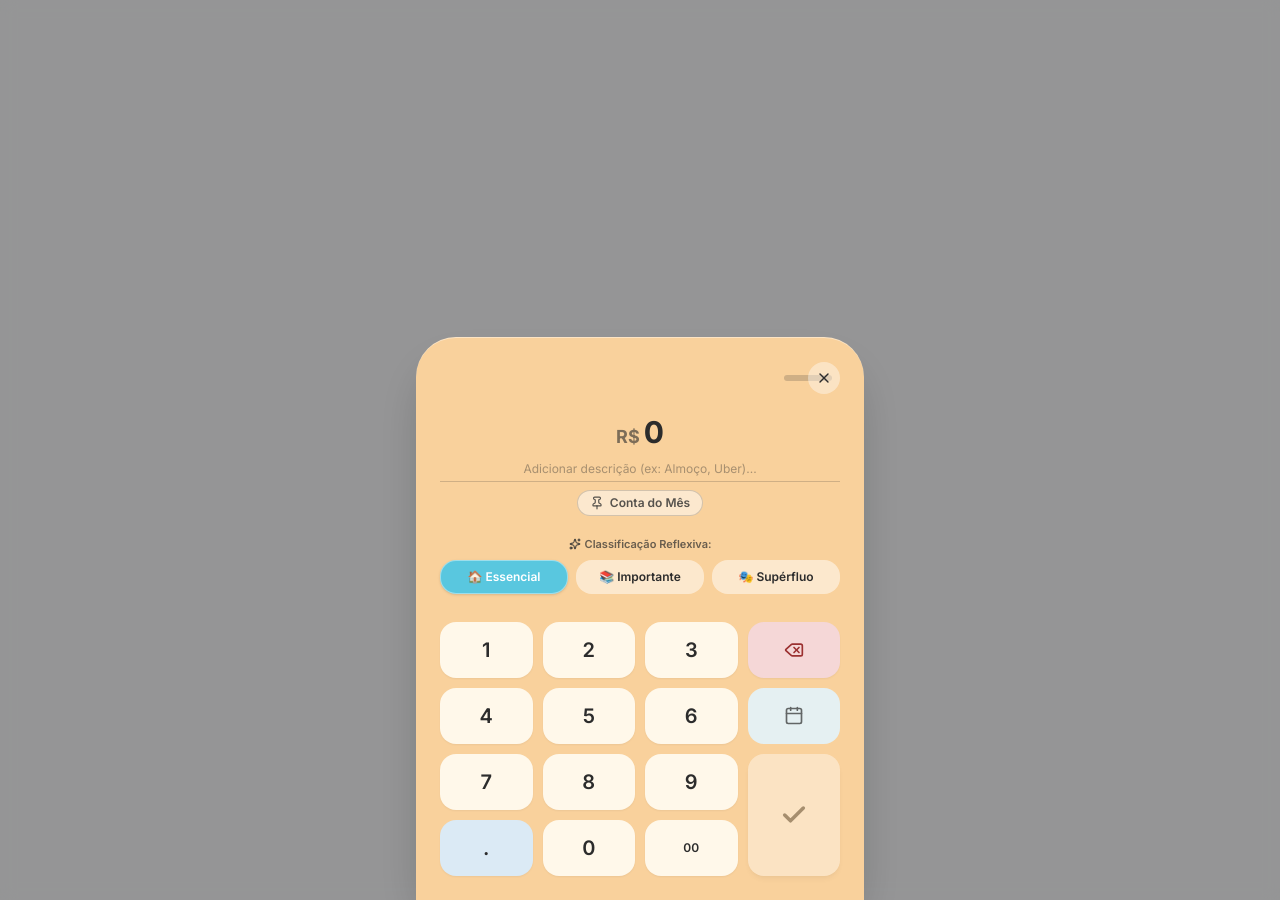
Test: ExpenseForm component › should update display value when keypad buttons are pressed
Step 1. Click the button "1" → [486, 650], box [440,622,532,678]
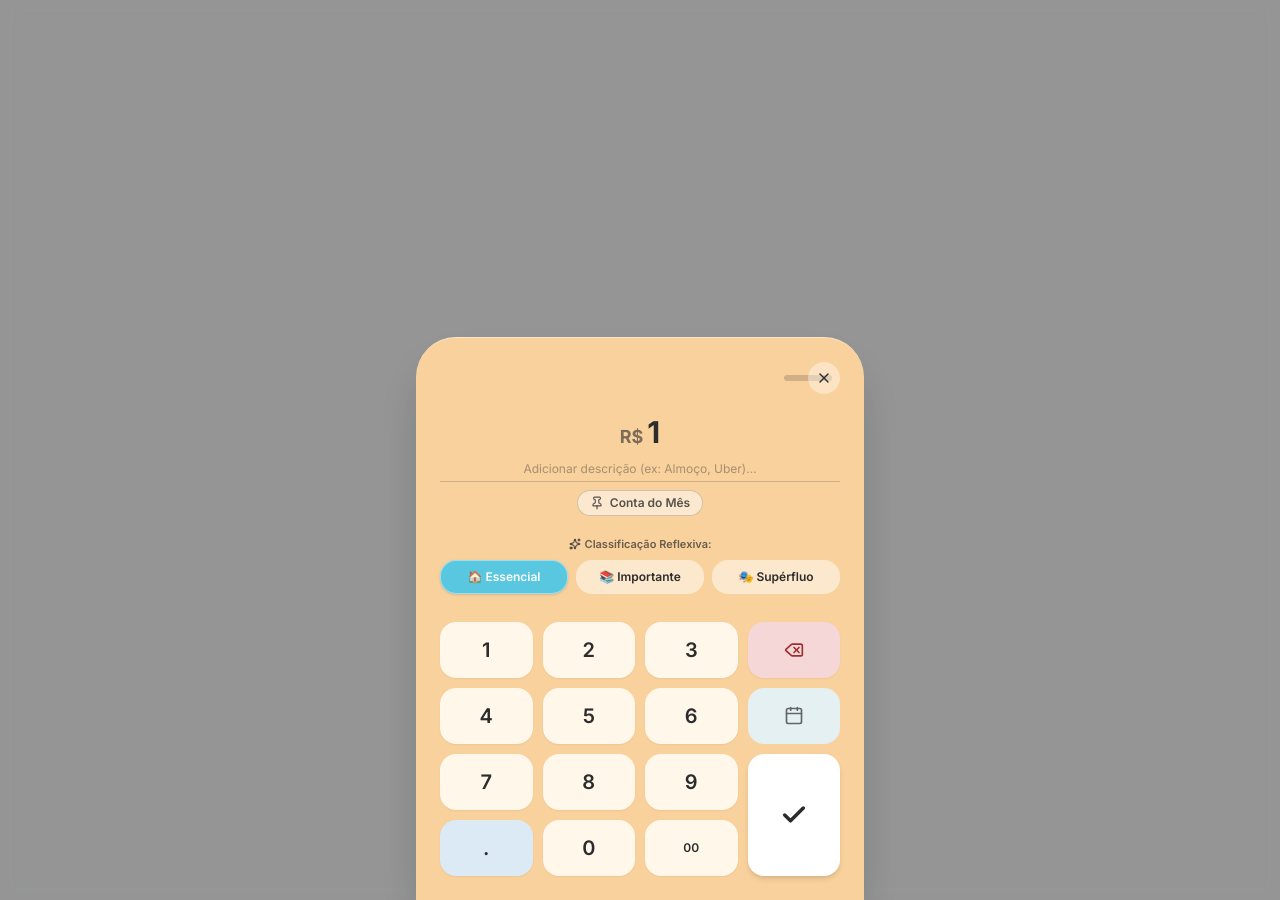
Step 2. Click the button "5" → [589, 716], box [542,688,635,744]
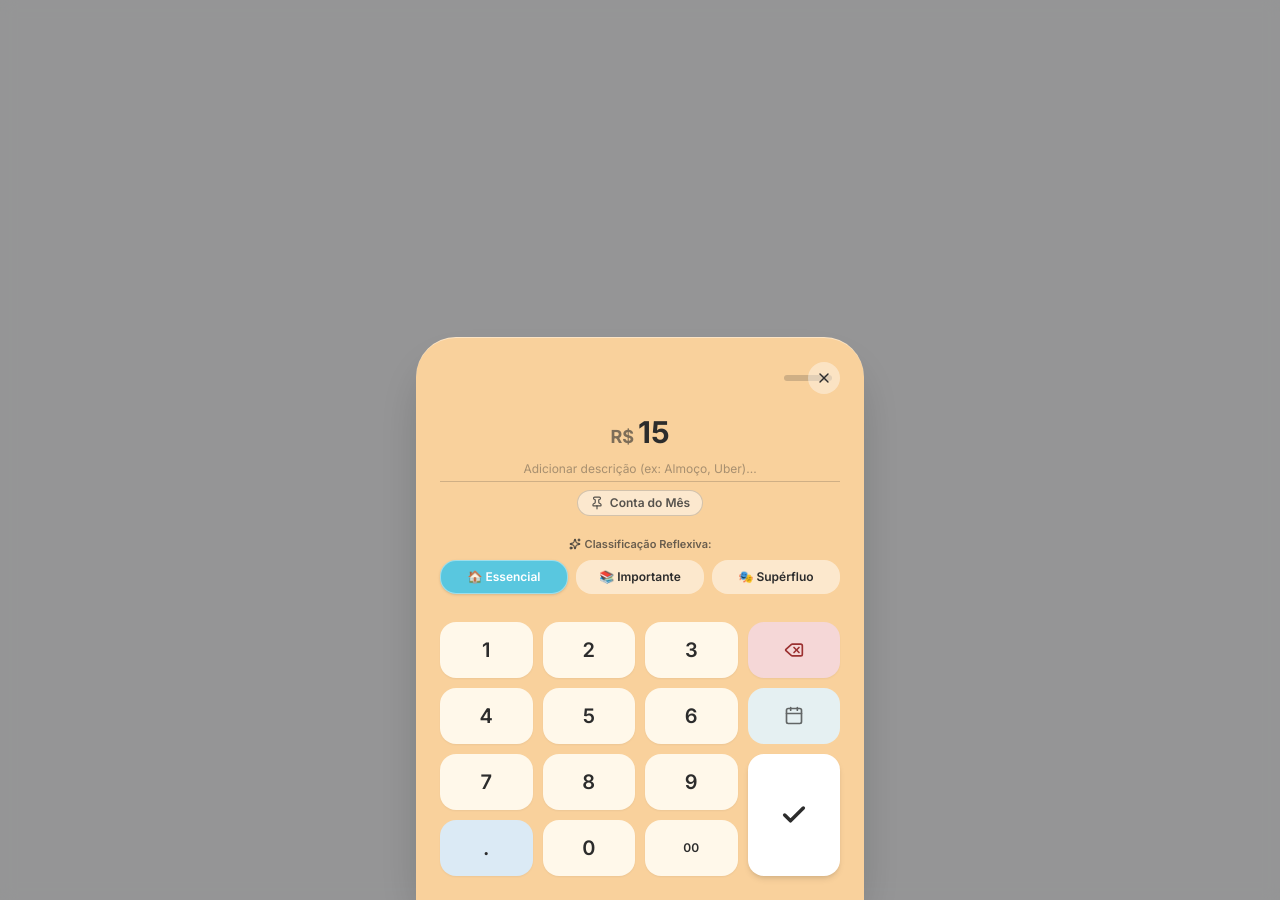
Step 3. Click the button "0" → [589, 848], box [542,820,635,876]
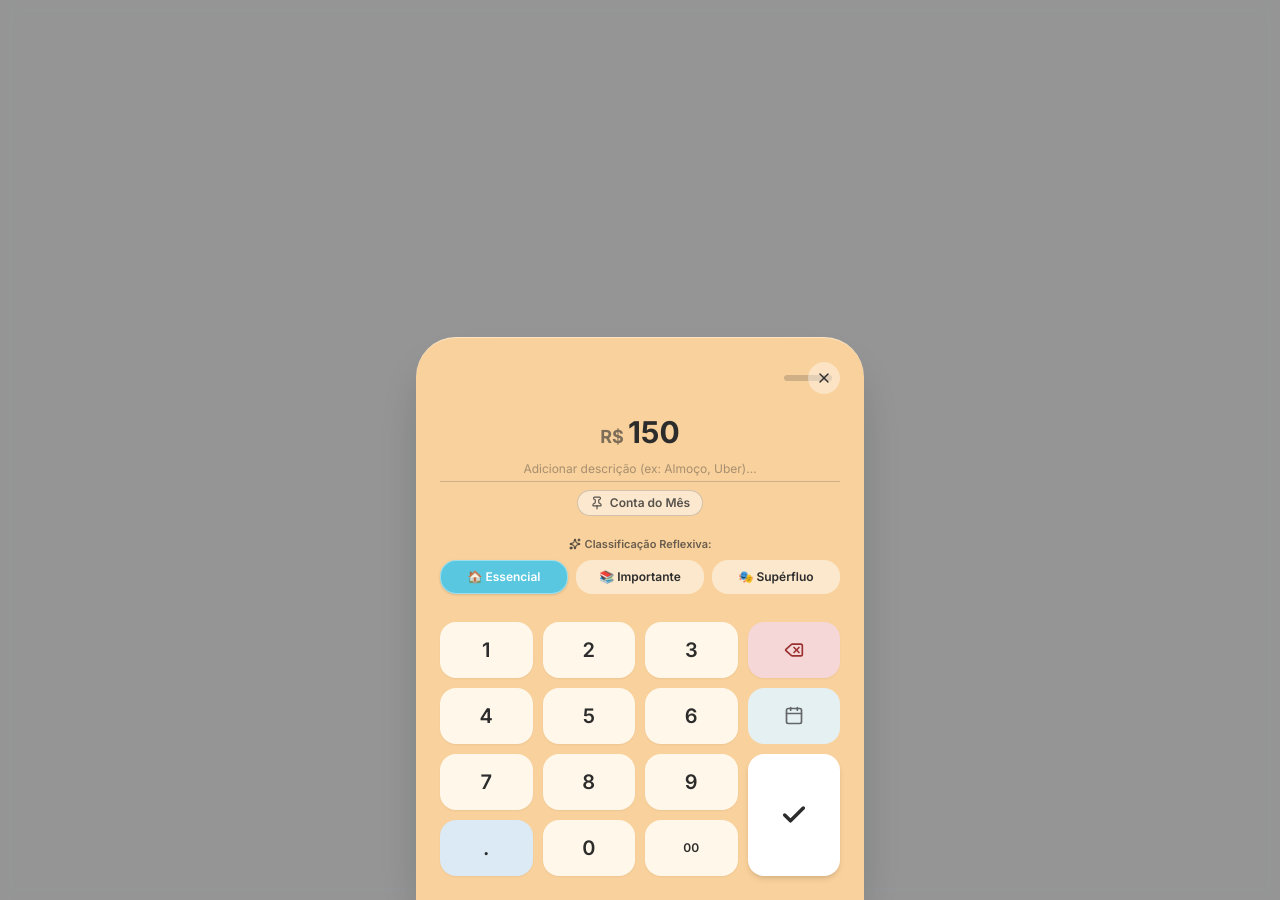
Expected: the text "150" is shown, [628,414,680,450]
